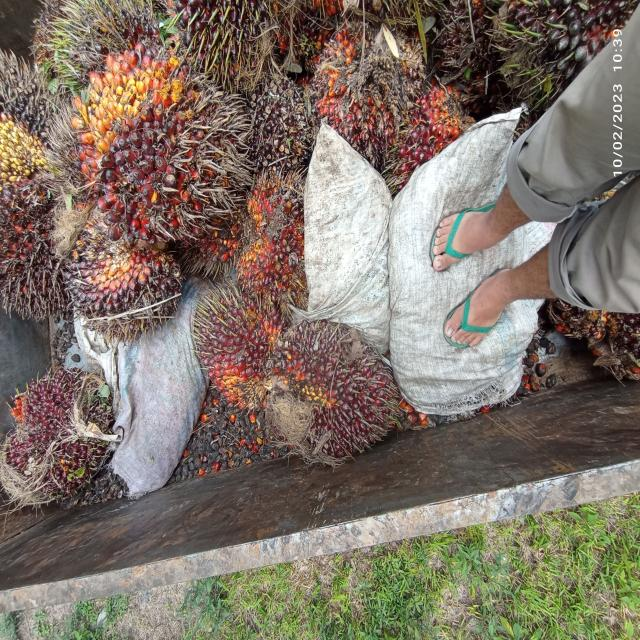fraksi 00: (54, 205, 190, 345), (0, 49, 68, 199), (238, 74, 309, 186)
fraksi 1: (277, 318, 415, 462)
fraksi 3: (65, 41, 260, 273), (0, 352, 126, 502), (182, 270, 284, 415), (229, 181, 315, 316)
fraksi 4: (0, 192, 73, 322)
